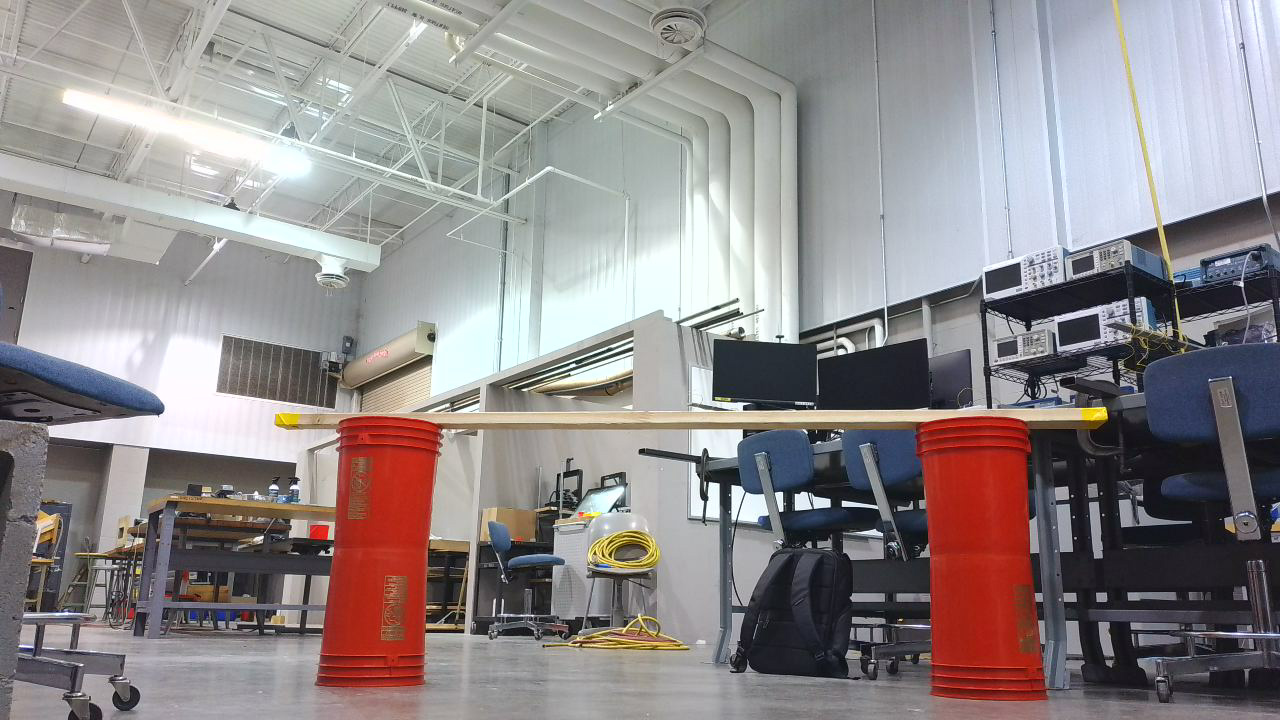red_bucketArch: (318, 414, 1058, 708)
